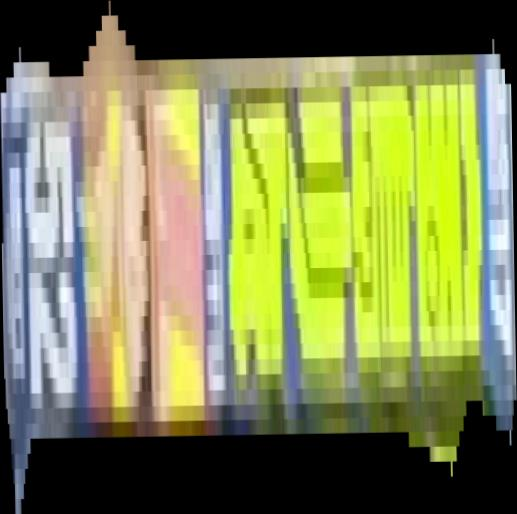flat: (1, 1, 517, 514)
